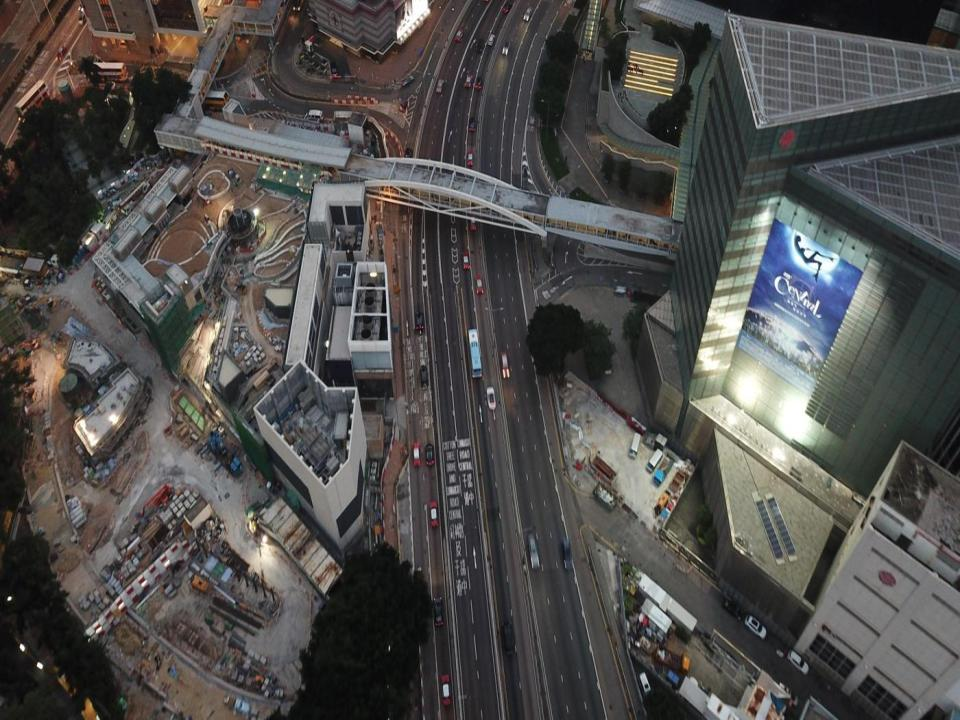bus: (13, 80, 50, 116), (88, 62, 128, 81), (468, 329, 481, 377)
car: (502, 622, 514, 654), (528, 534, 539, 568), (562, 538, 573, 568), (433, 597, 443, 626), (486, 386, 496, 411), (442, 674, 450, 704), (412, 441, 420, 467), (430, 501, 437, 527), (426, 443, 434, 465), (420, 366, 428, 388), (402, 148, 412, 164), (400, 75, 414, 86), (475, 275, 483, 293), (56, 47, 67, 60), (462, 251, 469, 269), (78, 0, 89, 11), (454, 29, 464, 41), (468, 117, 476, 131), (469, 214, 476, 230), (502, 40, 509, 55), (436, 80, 444, 93), (464, 75, 472, 88), (476, 38, 483, 51), (502, 2, 510, 13), (467, 150, 473, 164), (488, 34, 495, 45), (476, 78, 482, 90)
truck: (646, 448, 662, 472), (630, 432, 641, 459)
van: (786, 649, 808, 675), (745, 615, 766, 640), (77, 12, 90, 26), (308, 110, 324, 121), (416, 311, 424, 330), (523, 6, 532, 20)
